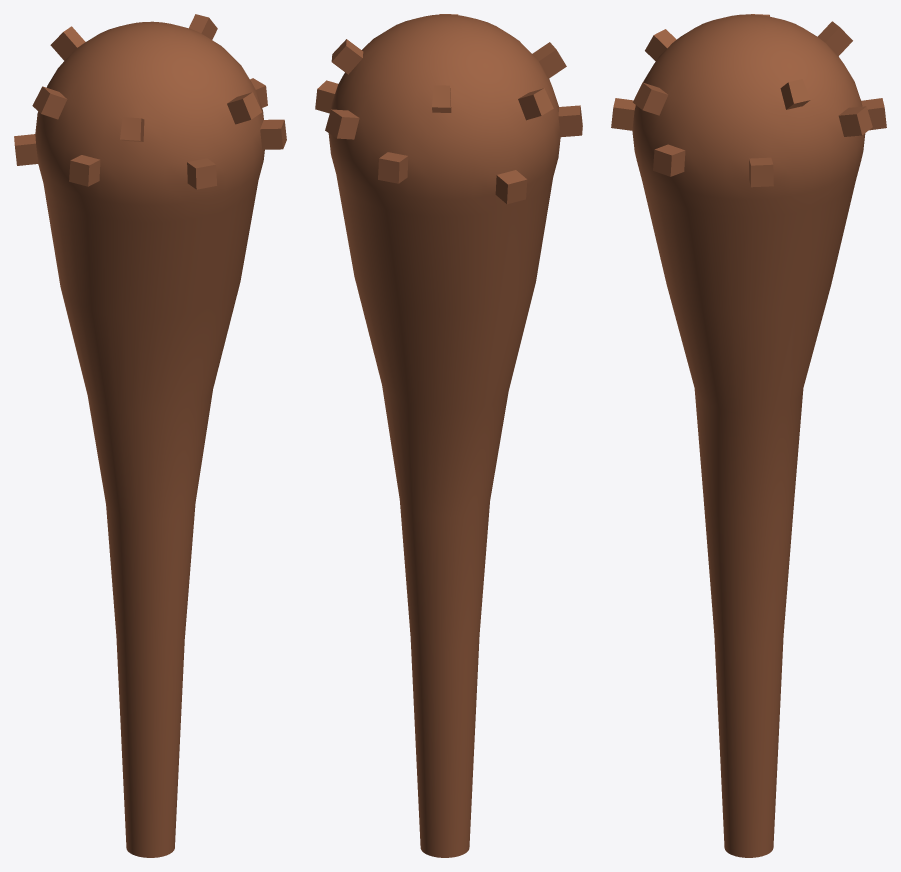
Rendered from Basto.fbx.
3 renders of one model, left to right at view 1: azimuth 30°, elevation 25°; view 2: azimuth 150°, elevation 25°; view 3: azimuth 270°, elevation 25°, orthographic.
Parts seen in each view (by area): view 1: Sphere.001; view 2: Sphere.001; view 3: Sphere.001.
Boxes of the visible parts, bbox=[...] form: Sphere.001: bbox=[14, 14, 286, 857]; Sphere.001: bbox=[315, 14, 582, 857]; Sphere.001: bbox=[611, 14, 886, 857].
Size of the model in its own units: 1.13 by 3.89 by 1.18.
